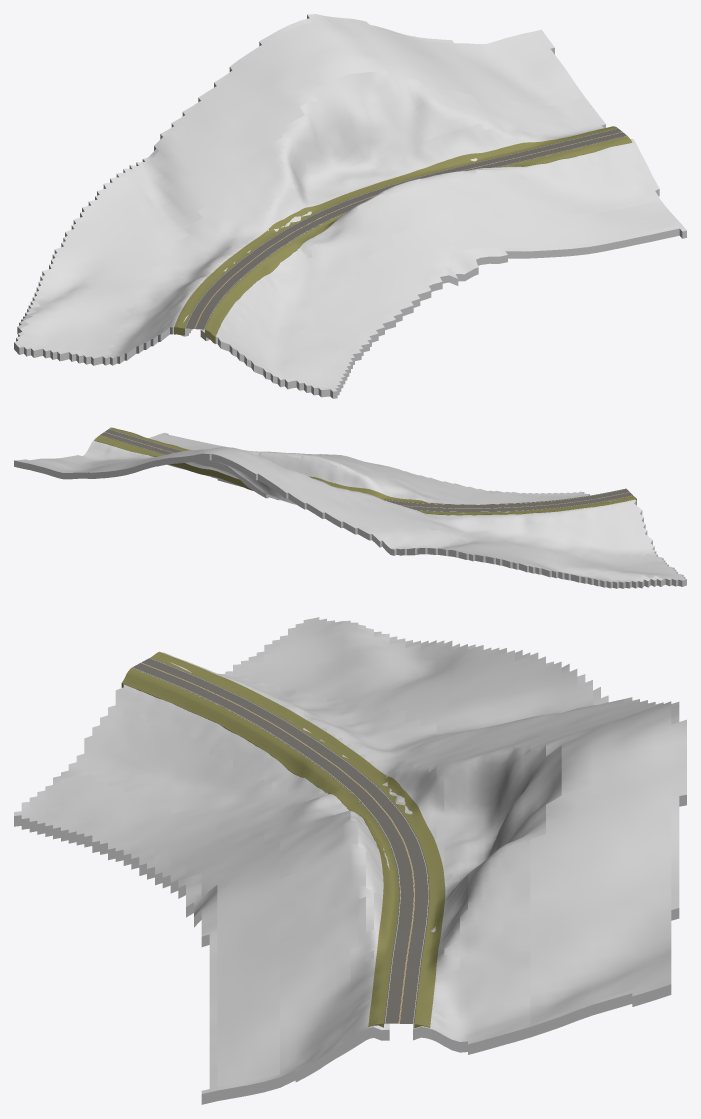
File: conz_32.glb
3 renders of one model, top to bottom at view 1: azimuth 30°, elevation 25°; view 2: azimuth 150°, elevation 25°; view 3: azimuth 270°, elevation 25°, orthographic. The views are drawn at different scales.
Parts seen in each view (by area): view 1: terrain32, road32, verge32R, verge32L; view 2: terrain32, road32, verge32R, verge32L; view 3: terrain32, road32, verge32L, verge32R, paint_white32, paint_yellow32.
Boxes of the visible parts, bbox=[...] form: terrain32: bbox=[14, 14, 686, 398]; road32: bbox=[184, 128, 626, 329]; verge32R: bbox=[174, 126, 617, 335]; verge32L: bbox=[205, 136, 632, 343]; terrain32: bbox=[14, 427, 686, 588]; road32: bbox=[100, 429, 632, 512]; verge32R: bbox=[94, 435, 636, 515]; verge32L: bbox=[109, 428, 625, 504]; terrain32: bbox=[14, 617, 686, 1104]; road32: bbox=[131, 658, 429, 1023]; verge32L: bbox=[121, 668, 399, 1027]; verge32R: bbox=[150, 651, 445, 1028]; paint_white32: bbox=[132, 658, 428, 1023]; paint_yellow32: bbox=[141, 662, 414, 1023].
Size of the model in its own units: 282 by 70.35 by 172.
